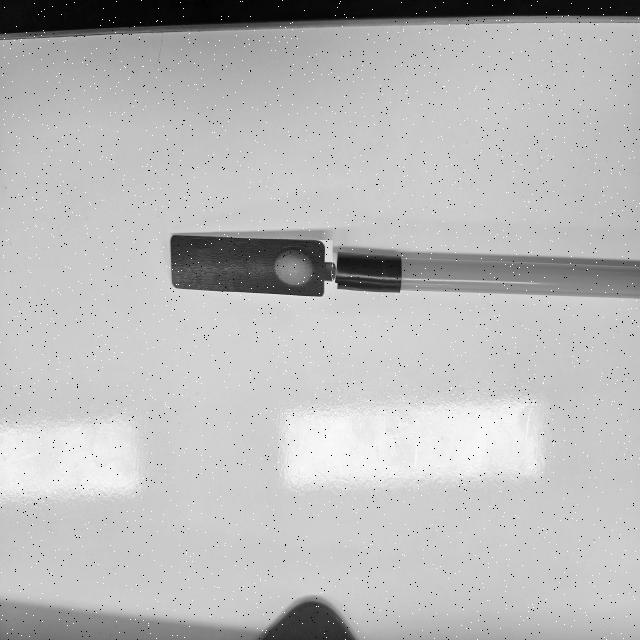traffic light: (170, 231, 337, 300)
